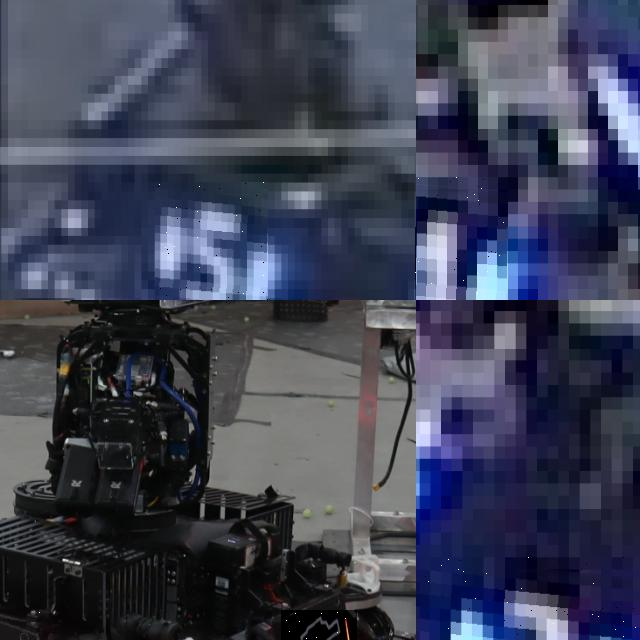B3: (419, 557, 640, 640)
B4: (416, 177, 508, 300)
B5: (154, 182, 268, 300)
Rs: (280, 609, 357, 640)
